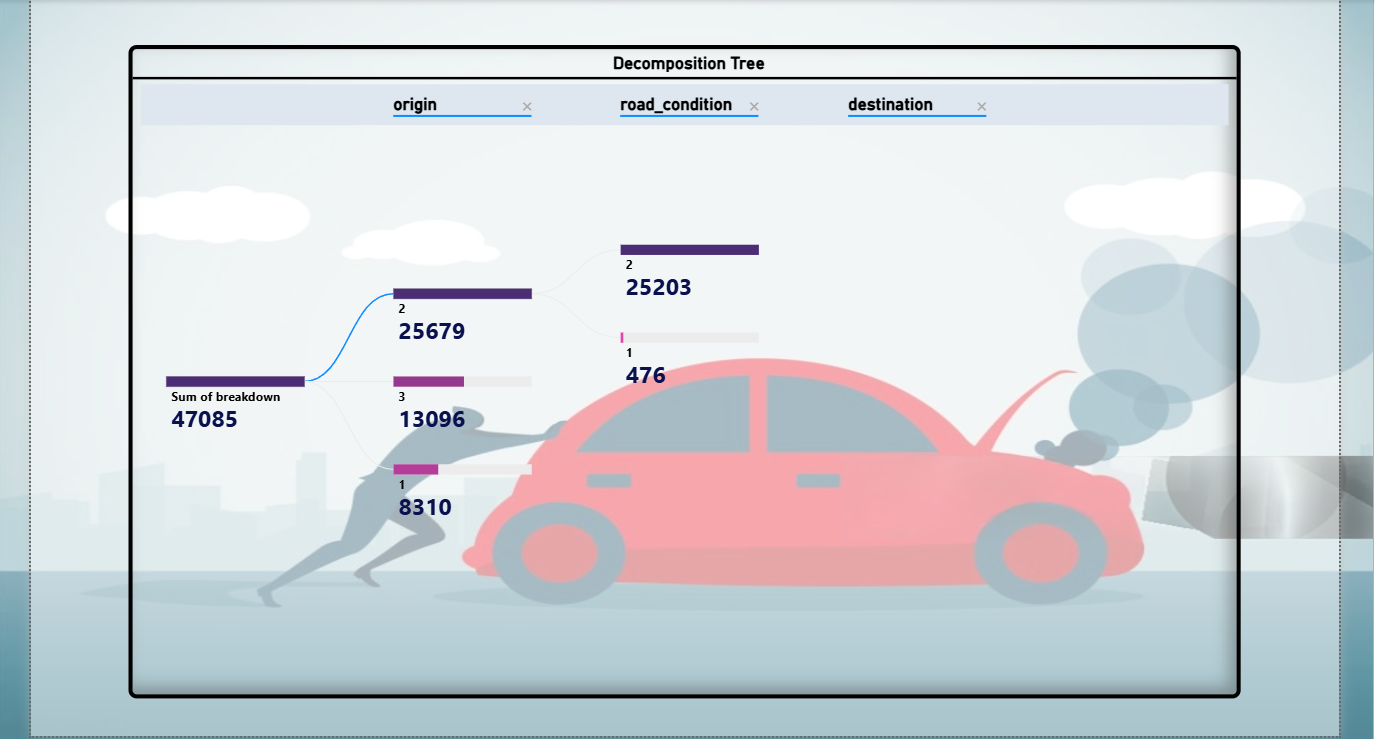

What the dashboard file says about the page in this screenshot:
{"tool":"powerbi","page":{"name":"Decompostion Tree","canvas":[1280,720],"ordinal":3},"visuals":[{"type":"decompositionTreeVisual","title":"Decomposition Tree","fields":{"ExplainBy":["cleaned_obd_with_timestamp.origin","cleaned_obd_with_timestamp.road_condition","cleaned_obd_with_timestamp.destination"],"Analyze":["Sum(cleaned_obd_with_timestamp.breakdown)"]},"box":[95.4,44,1088.3,639.5],"z":0}]}

Visuals, with their boxes on the page's 1280x720 design canvas (x1, y1, x2, y2). These are canvas units, not pixel positions in the 1375x739 screenshot, which may show the page scaled, cropped or inside an application window:
"Decomposition Tree" decompositionTreeVisual: 95 44 1184 684
